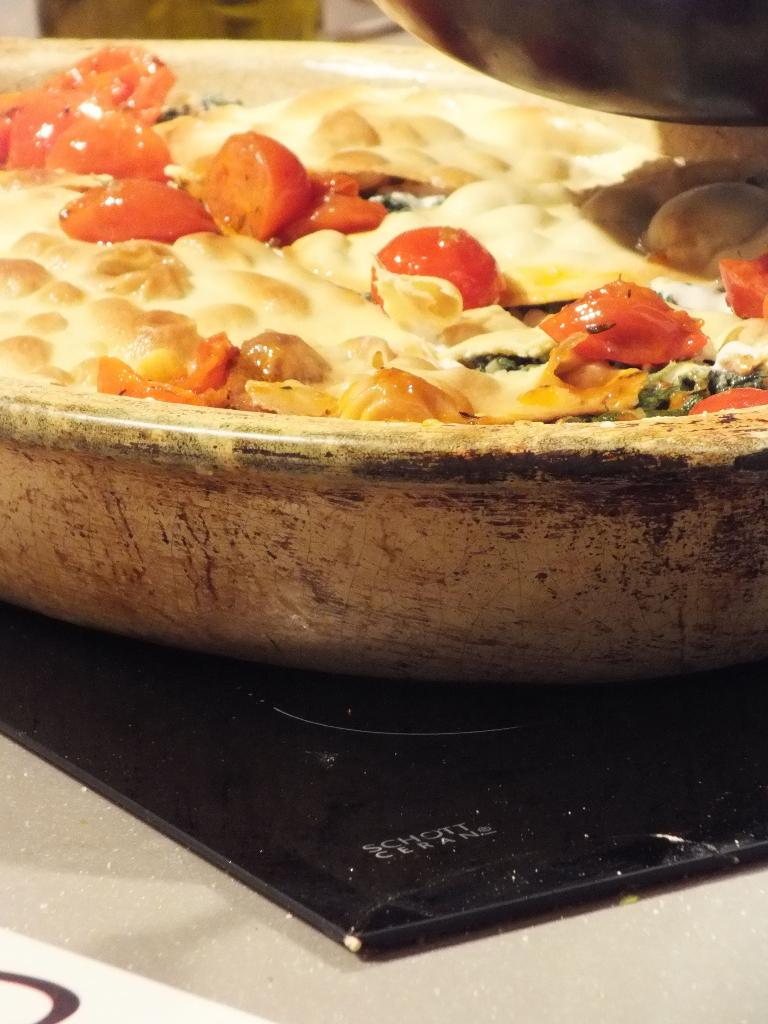Pizza: (0, 28, 767, 435)
